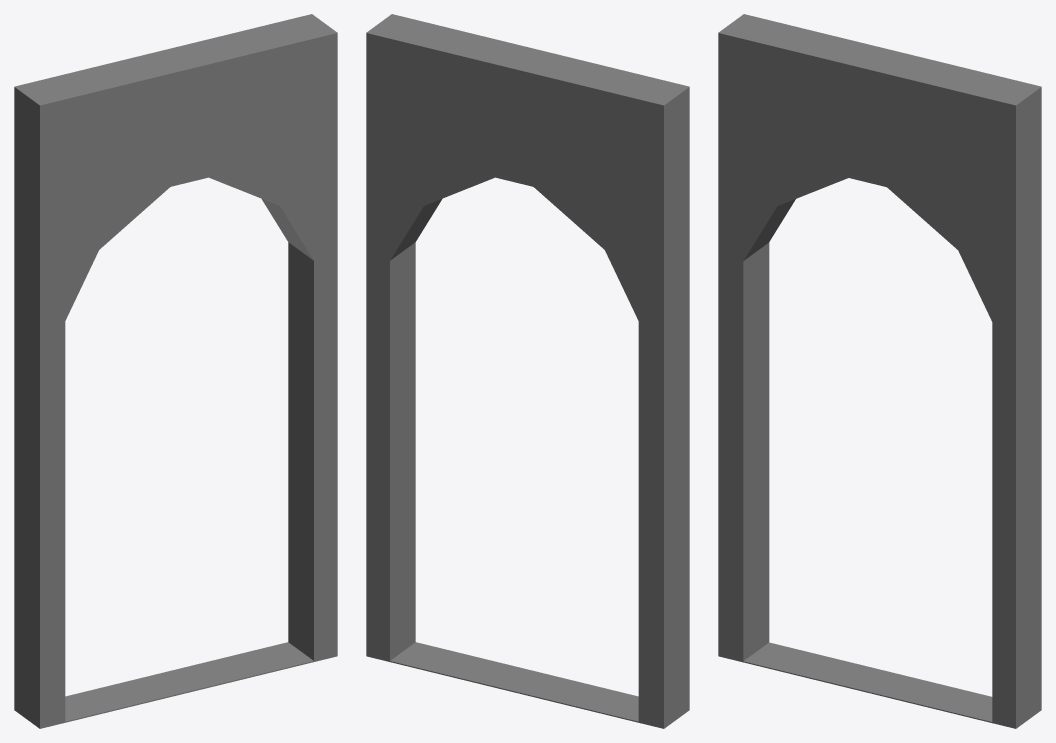
The model's file is GreyDoorframe.glb.
3 views of the same model, side by side, from view 1: azimuth 30°, elevation 25°; view 2: azimuth 150°, elevation 25°; view 3: azimuth 330°, elevation 25° (orthographic).
Visible parts, largest first — view 1: wall_grey_door; view 2: wall_grey_door; view 3: wall_grey_door.
Part boxes in pixels (left/top/right/bottom): wall_grey_door: left=14, top=14, right=337, bottom=728; wall_grey_door: left=366, top=14, right=689, bottom=728; wall_grey_door: left=718, top=14, right=1041, bottom=728.
Size of what is drawn, in the model's own units: 2 by 4 by 0.3.
1 material, 1 textured.
